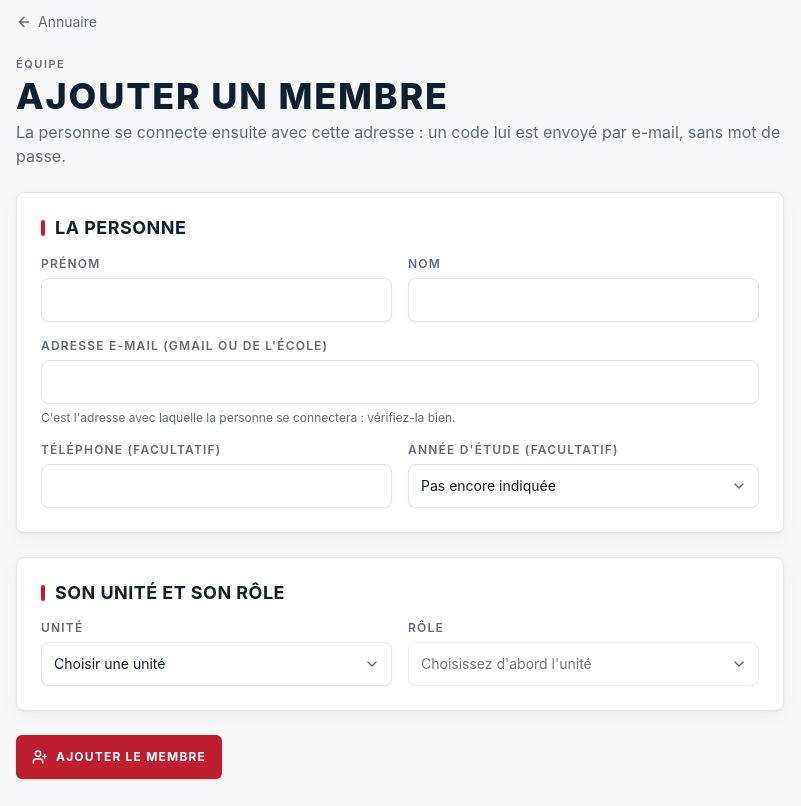
it: AddMember › asks no level for a leadership role, and says why the API refused
The image size is (801, 806).
In the field labelled "Prénom": (216, 300) [41,278,392,322], type "Nadia"
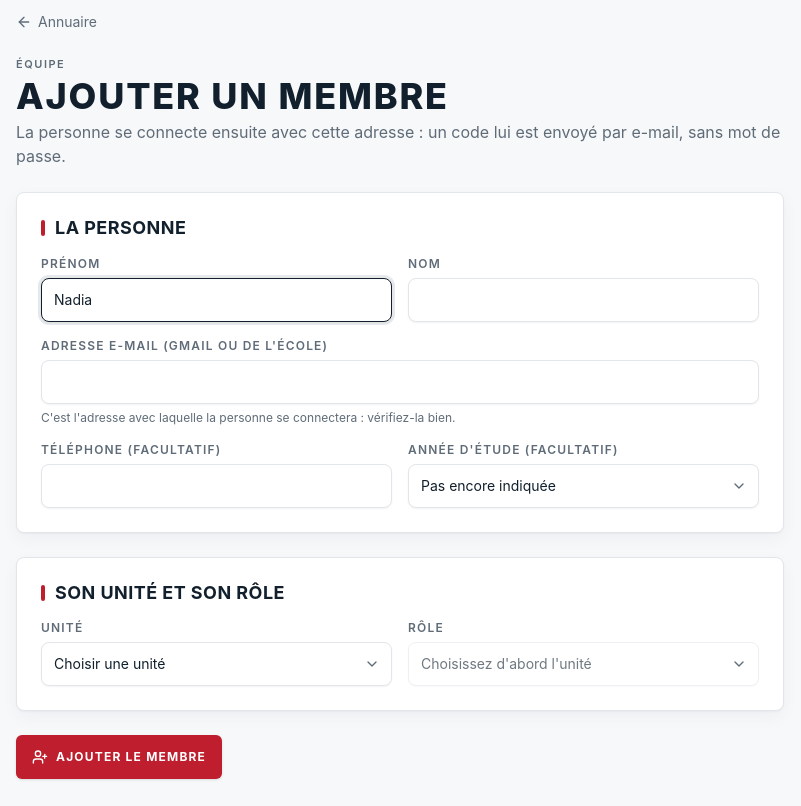
In the field labelled "Nom": (584, 300) [408,278,759,322], type "New"
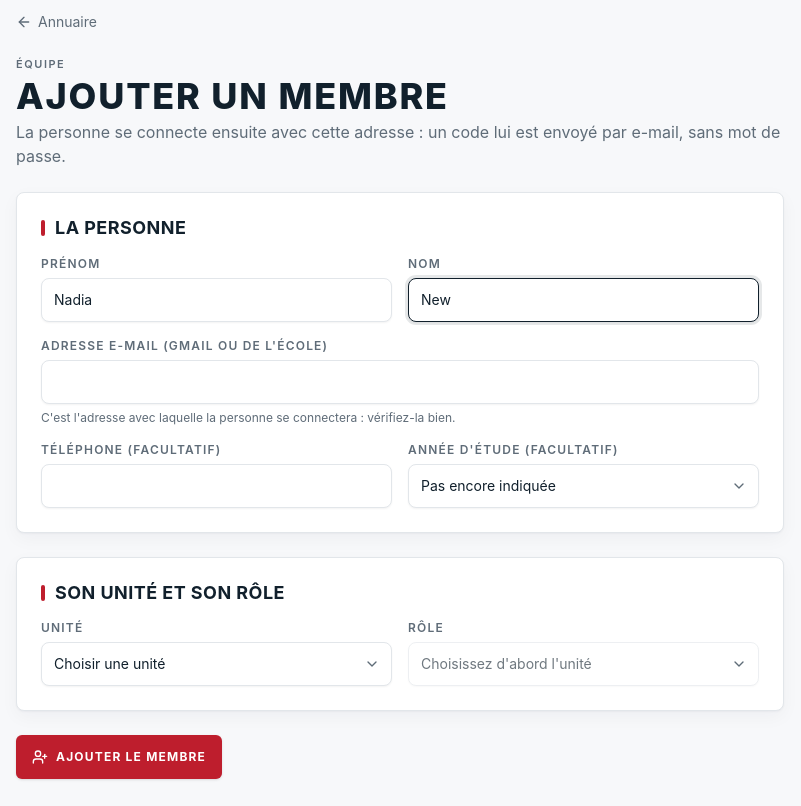
In the field labelled "Adresse e-mail (Gmail ou de l'école)": (400, 382) [41,360,759,404], type "nadia.new@gmail.com"
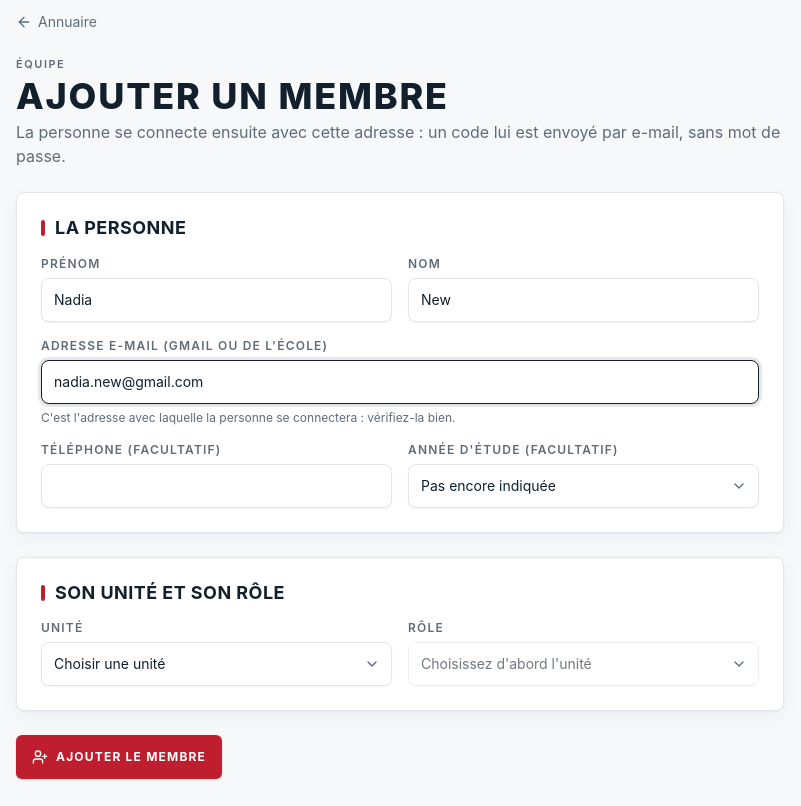
Select "Electronics" in the dropdown labelled "Unité": (216, 664) [41,642,392,686]
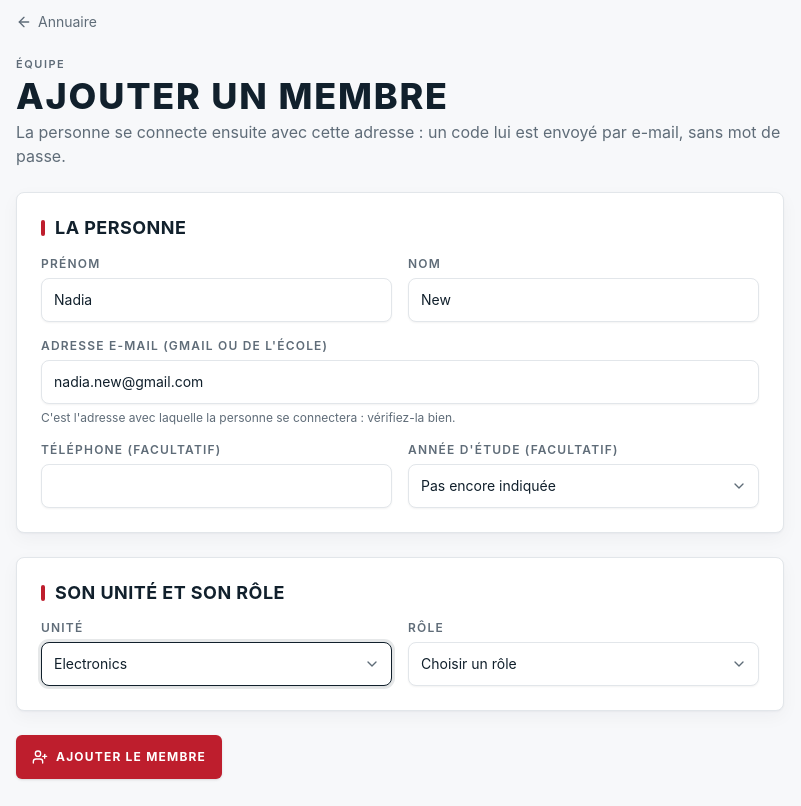
Select "Lead Engineer" in the dropdown labelled "Rôle": (584, 664) [408,642,759,686]
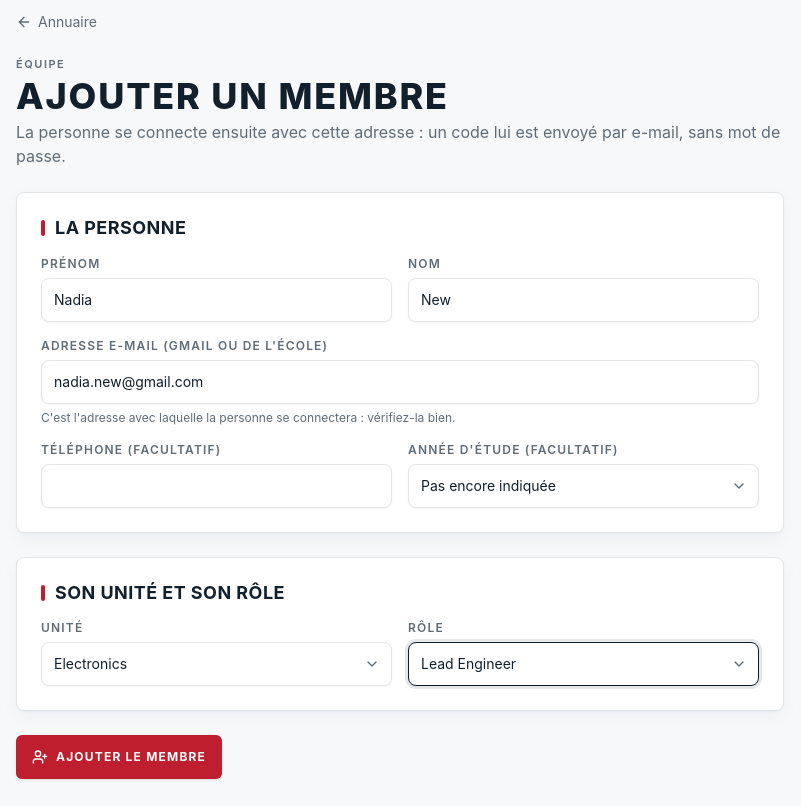
Click the button "Ajouter le membre": (119, 757) [16,735,222,779]
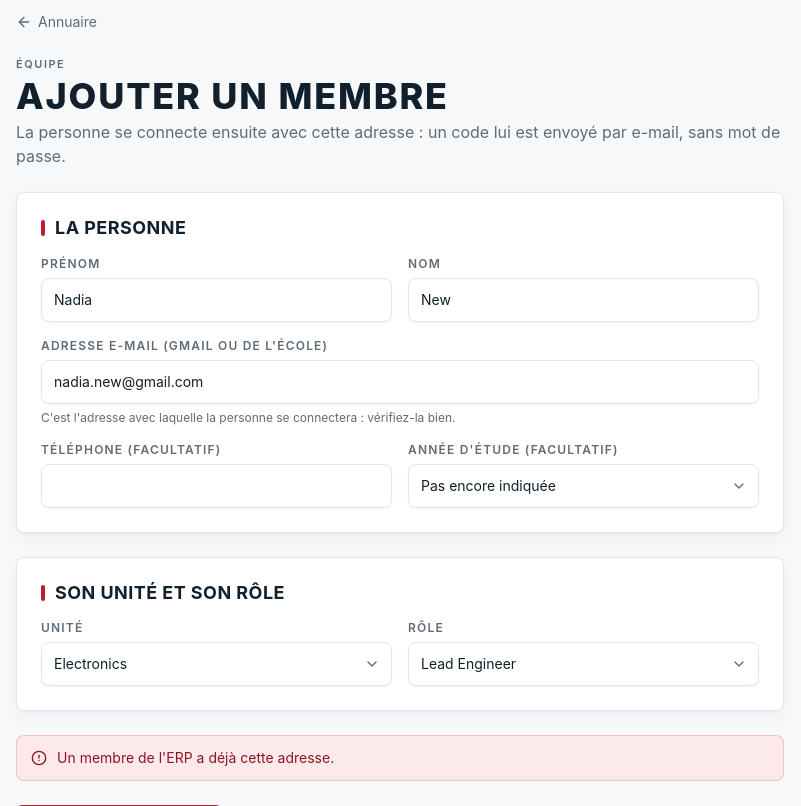
expect the message reads "Un membre de l'ERP a déjà cette adresse.": met, box [57,749,334,766]
